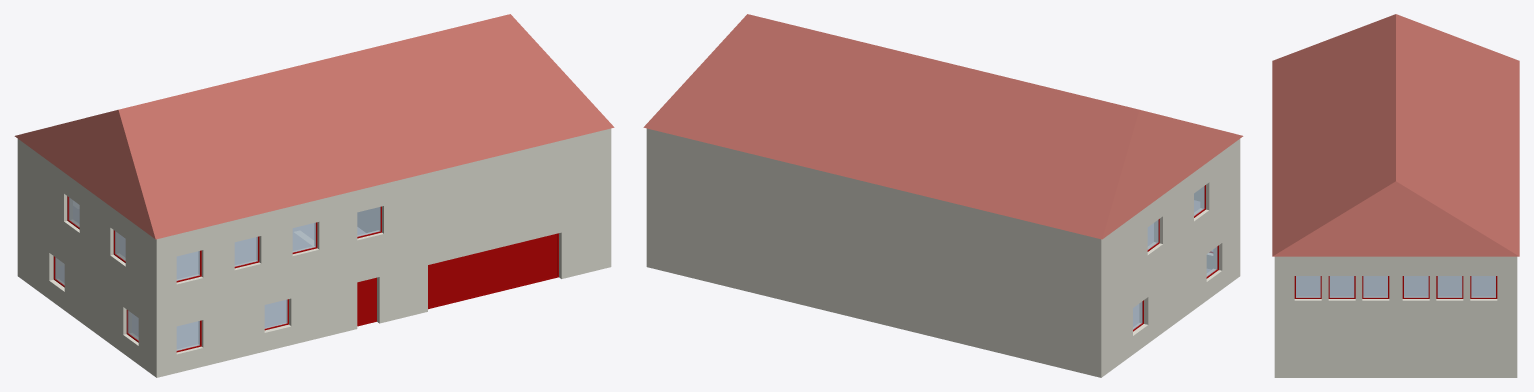
The model's file is Bilding.glb.
3 renders of one model, left to right at view 1: azimuth 30°, elevation 25°; view 2: azimuth 150°, elevation 25°; view 3: azimuth 270°, elevation 25°, orthographic. The views are drawn at different scales.
Visible parts, largest first — view 1: XXXX-XX-1242|:|B8A4396250C5687B1D31E70758B30729E1AC4426, XXXX-XX-686|:|FAEC4BB99F312C73669759060154B5EFE6F760CF, XXXX-XX-44|:|3F635CC986B490470081D15B208407244DE6D3D9, XXXX-XX-44|:|34ECF0BAB04CD6FE76F04275FC81D9EDAD8A545A, XXXX-XX-686|:|7325FF14D543F8139898A6CB429172C2196F7F62, XXXX-XX-424|:|B8A4396250C5687B1D31E70758B30729E1AC4426, XXXX-XX-492|:|B8A4396250C5687B1D31E70758B30729E1AC4426 (×6), XXXX-XX-44|:|62A847F87F404A1386DF7AE3239C498F49D94DDE, XXXX-XX-44|:|7325FF14D543F8139898A6CB429172C2196F7F62, XXXX-XX-356|:|B8A4396250C5687B1D31E70758B30729E1AC4426; view 2: XXXX-XX-1242|:|B8A4396250C5687B1D31E70758B30729E1AC4426, XXXX-XX-44|:|56E04FEF2A7239C0D0A1D2D7AF881CFFD1038689, XXXX-XX-686|:|124962E701BC8CA5C3EF640075110652EBBF4D01, XXXX-XX-44|:|34ECF0BAB04CD6FE76F04275FC81D9EDAD8A545A, XXXX-XX-686|:|7325FF14D543F8139898A6CB429172C2196F7F62; view 3: XXXX-XX-1242|:|B8A4396250C5687B1D31E70758B30729E1AC4426, XXXX-XX-44|:|9DEE4D6A6CEFFCC6B84EE92843601BFD61295F2C, XXXX-XX-686|:|56E04FEF2A7239C0D0A1D2D7AF881CFFD1038689, XXXX-XX-492|:|B8A4396250C5687B1D31E70758B30729E1AC4426 (×6), XXXX-XX-44|:|B8A4396250C5687B1D31E70758B30729E1AC4426.
Part boxes in pixels (x1,y1,x2,y2): XXXX-XX-1242|:|B8A4396250C5687B1D31E70758B30729E1AC4426: [14, 14, 614, 239]; XXXX-XX-686|:|FAEC4BB99F312C73669759060154B5EFE6F760CF: [156, 128, 611, 307]; XXXX-XX-44|:|3F635CC986B490470081D15B208407244DE6D3D9: [156, 197, 611, 377]; XXXX-XX-44|:|34ECF0BAB04CD6FE76F04275FC81D9EDAD8A545A: [17, 206, 156, 377]; XXXX-XX-686|:|7325FF14D543F8139898A6CB429172C2196F7F62: [17, 139, 156, 307]; XXXX-XX-424|:|B8A4396250C5687B1D31E70758B30729E1AC4426: [428, 233, 558, 309]; XXXX-XX-492|:|B8A4396250C5687B1D31E70758B30729E1AC4426 (×6): [176, 206, 381, 352]; XXXX-XX-44|:|62A847F87F404A1386DF7AE3239C498F49D94DDE: [73, 206, 365, 278]; XXXX-XX-44|:|7325FF14D543F8139898A6CB429172C2196F7F62: [58, 265, 285, 348]; XXXX-XX-356|:|B8A4396250C5687B1D31E70758B30729E1AC4426: [357, 277, 376, 326]; XXXX-XX-1242|:|B8A4396250C5687B1D31E70758B30729E1AC4426: [643, 14, 1243, 239]; XXXX-XX-44|:|56E04FEF2A7239C0D0A1D2D7AF881CFFD1038689: [646, 197, 1101, 377]; XXXX-XX-686|:|124962E701BC8CA5C3EF640075110652EBBF4D01: [646, 128, 1101, 307]; XXXX-XX-44|:|34ECF0BAB04CD6FE76F04275FC81D9EDAD8A545A: [1101, 206, 1240, 377]; XXXX-XX-686|:|7325FF14D543F8139898A6CB429172C2196F7F62: [1101, 139, 1240, 307]; XXXX-XX-1242|:|B8A4396250C5687B1D31E70758B30729E1AC4426: [1272, 14, 1519, 256]; XXXX-XX-44|:|9DEE4D6A6CEFFCC6B84EE92843601BFD61295F2C: [1274, 317, 1517, 377]; XXXX-XX-686|:|56E04FEF2A7239C0D0A1D2D7AF881CFFD1038689: [1274, 256, 1517, 316]; XXXX-XX-492|:|B8A4396250C5687B1D31E70758B30729E1AC4426 (×6): [1294, 276, 1497, 298]; XXXX-XX-44|:|B8A4396250C5687B1D31E70758B30729E1AC4426: [1296, 276, 1495, 296].
Size of the model in its own units: 20.6 by 9 by 11.
